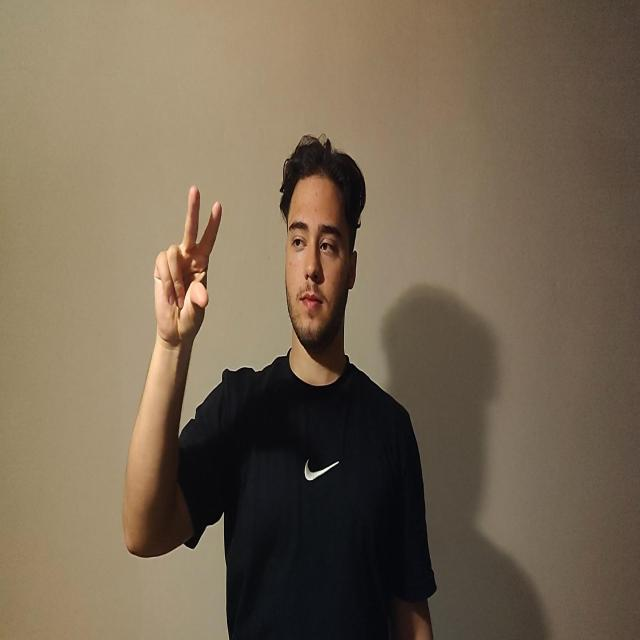no: (153, 184, 222, 346)
